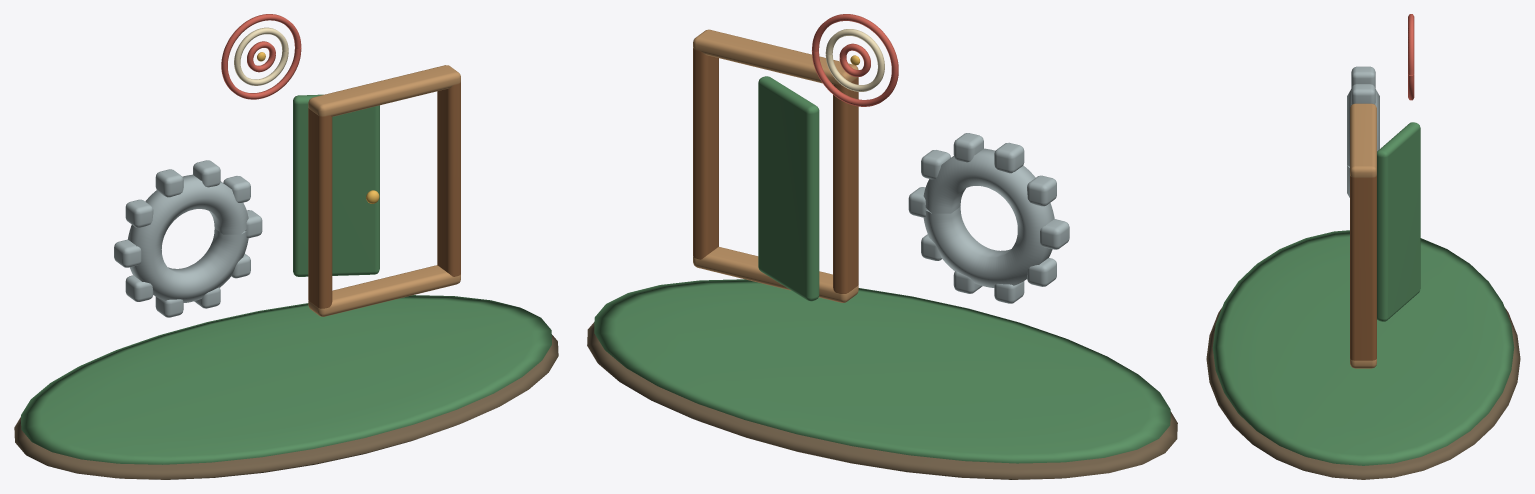
Rendered from complete-third-specialized-door.glb.
3 renders of one model, left to right at view 1: azimuth 30°, elevation 25°; view 2: azimuth 150°, elevation 25°; view 3: azimuth 270°, elevation 25°, orthographic. The views are drawn at different scales.
Visible parts, largest first — view 1: complete-third-specialized-door_surface_01, complete-third-specialized-door_surface_02, complete-third-specialized-door_surface_03, complete-third-specialized-door_surface_00, complete-third-specialized-door_surface_04, complete-third-specialized-door_surface_06, complete-third-specialized-door_surface_07; view 2: complete-third-specialized-door_surface_01, complete-third-specialized-door_surface_02, complete-third-specialized-door_surface_00, complete-third-specialized-door_surface_03, complete-third-specialized-door_surface_04, complete-third-specialized-door_surface_06, complete-third-specialized-door_surface_07; view 3: complete-third-specialized-door_surface_01, complete-third-specialized-door_surface_00, complete-third-specialized-door_surface_03, complete-third-specialized-door_surface_04, complete-third-specialized-door_surface_02, complete-third-specialized-door_surface_06.
Part boxes in pixels (x1=…): complete-third-specialized-door_surface_01: x1=21, y1=94, x2=551, y2=464; complete-third-specialized-door_surface_02: x1=114, y1=160, x2=262, y2=317; complete-third-specialized-door_surface_03: x1=308, y1=82, x2=460, y2=308; complete-third-specialized-door_surface_00: x1=14, y1=335, x2=558, y2=479; complete-third-specialized-door_surface_04: x1=308, y1=65, x2=460, y2=316; complete-third-specialized-door_surface_06: x1=221, y1=14, x2=301, y2=99; complete-third-specialized-door_surface_07: x1=234, y1=27, x2=288, y2=85; complete-third-specialized-door_surface_01: x1=594, y1=76, x2=1170, y2=463; complete-third-specialized-door_surface_02: x1=908, y1=133, x2=1069, y2=303; complete-third-specialized-door_surface_00: x1=587, y1=322, x2=1177, y2=479; complete-third-specialized-door_surface_03: x1=693, y1=48, x2=858, y2=293; complete-third-specialized-door_surface_04: x1=693, y1=29, x2=858, y2=302; complete-third-specialized-door_surface_06: x1=812, y1=14, x2=898, y2=106; complete-third-specialized-door_surface_07: x1=825, y1=29, x2=884, y2=91; complete-third-specialized-door_surface_01: x1=1212, y1=122, x2=1514, y2=465; complete-third-specialized-door_surface_00: x1=1206, y1=308, x2=1520, y2=479; complete-third-specialized-door_surface_03: x1=1350, y1=176, x2=1376, y2=360; complete-third-specialized-door_surface_04: x1=1350, y1=103, x2=1376, y2=368; complete-third-specialized-door_surface_02: x1=1347, y1=66, x2=1379, y2=197; complete-third-specialized-door_surface_06: x1=1408, y1=14, x2=1414, y2=100.
Bounding box in the file's own units: 4.56 × 3.12 × 2.5.
